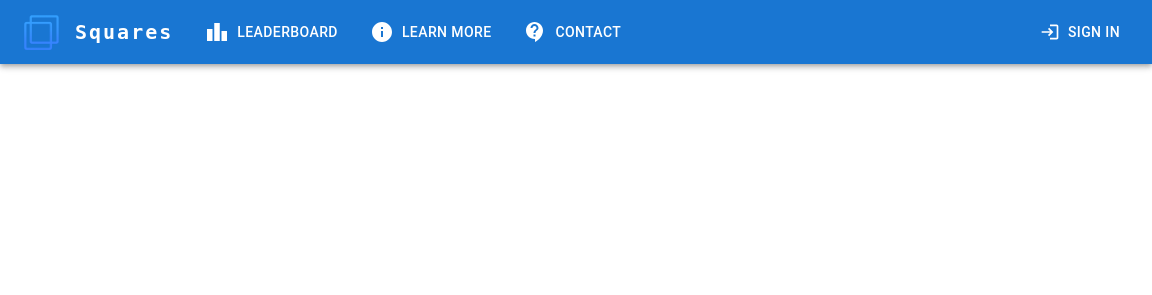
it: Header › shows provider options when Sign In is clicked
The width and height of the screenshot is (1152, 295).
Click the button "Sign In" at (1082, 32), box [1036,14,1128,50]
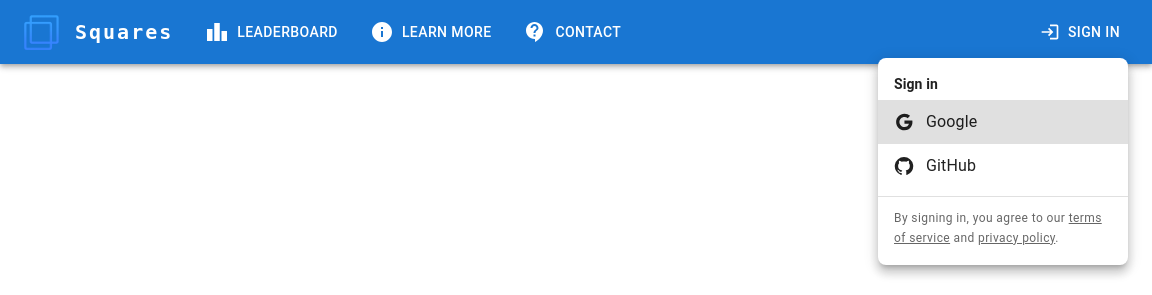
Expected: the menu item "Google" is shown, [878,100,1128,144]
Expected: the menu item "GitHub" is shown, [894,156,976,176]
